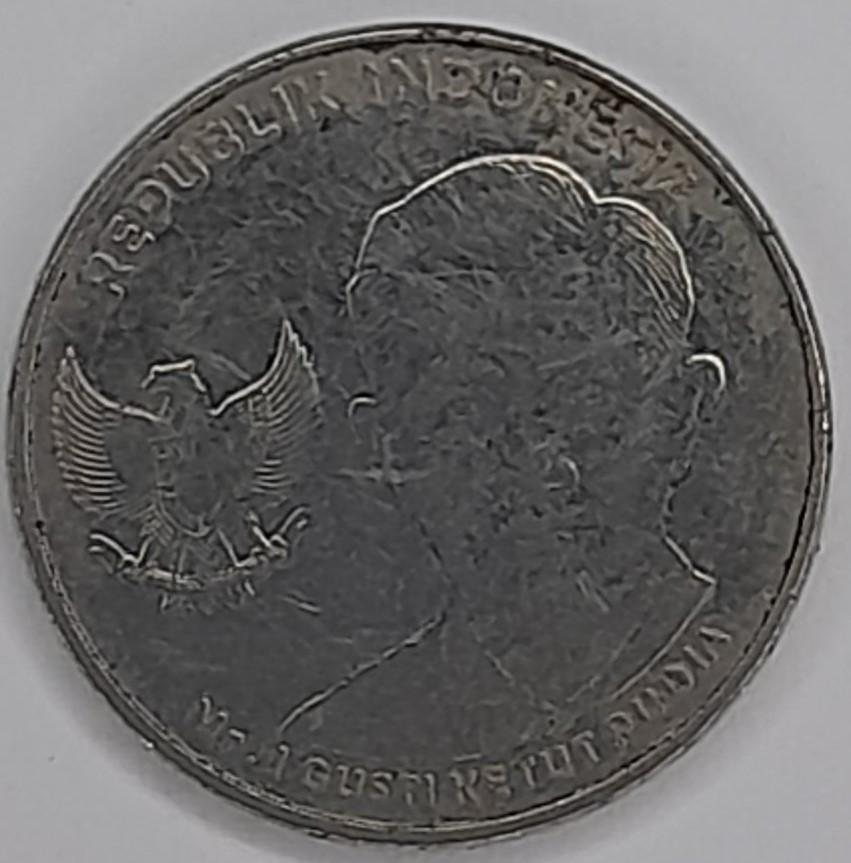coin_1000_e2016: (14, 17, 840, 863)
